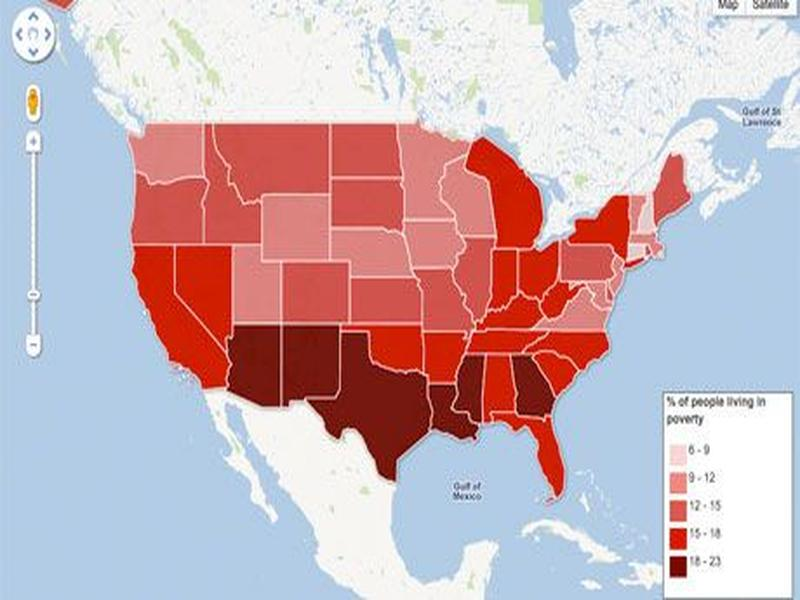legend: (661, 390, 796, 600)
